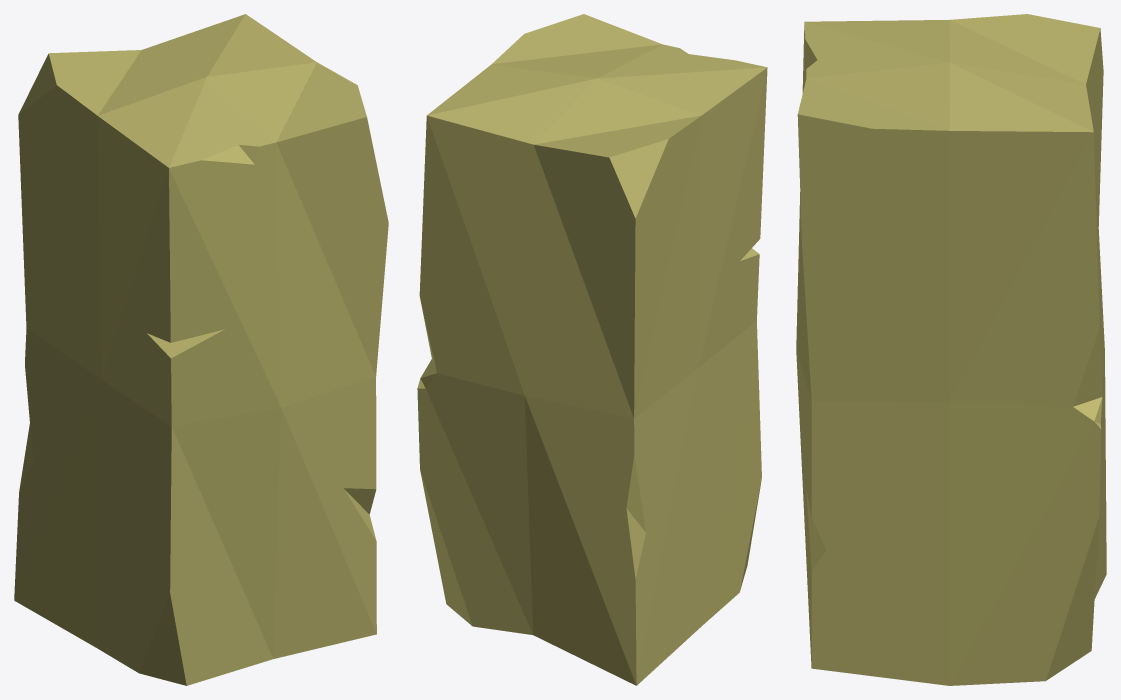
The model's file is Prop_Jungle_Temple_Pillar_Block_01.FBX.
The picture shows the model from 3 angles, left to right: view 1: azimuth 30°, elevation 25°; view 2: azimuth 150°, elevation 25°; view 3: azimuth 270°, elevation 25°; orthographic projection. The views are drawn at different scales.
Parts seen in each view (by area): view 1: Prop_Jungle_Temple_Pillar_Block_01; view 2: Prop_Jungle_Temple_Pillar_Block_01; view 3: Prop_Jungle_Temple_Pillar_Block_01.
Boxes of the visible parts, bbox=[...] form: Prop_Jungle_Temple_Pillar_Block_01: bbox=[14, 14, 388, 685]; Prop_Jungle_Temple_Pillar_Block_01: bbox=[417, 14, 767, 685]; Prop_Jungle_Temple_Pillar_Block_01: bbox=[796, 14, 1106, 685].
Bounding box in the file's own units: 2001 × 4540 × 2237.
